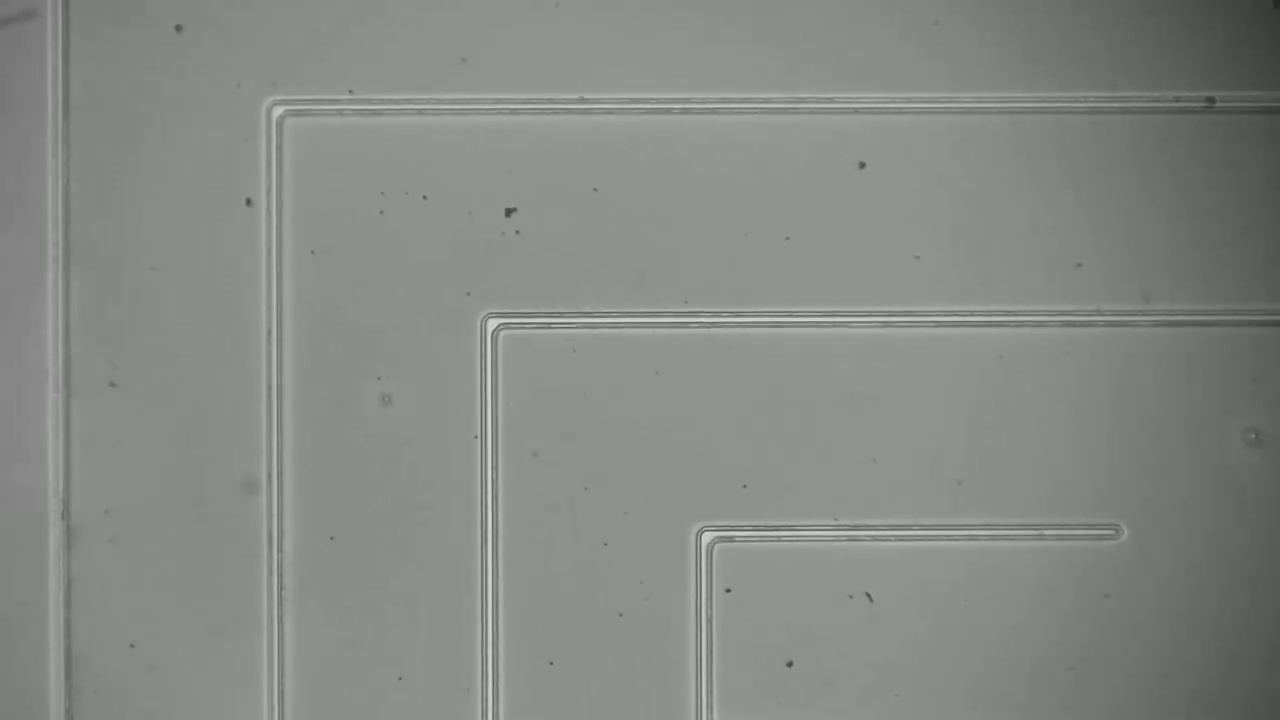stains_enbedded: (1197, 88, 1221, 117)
